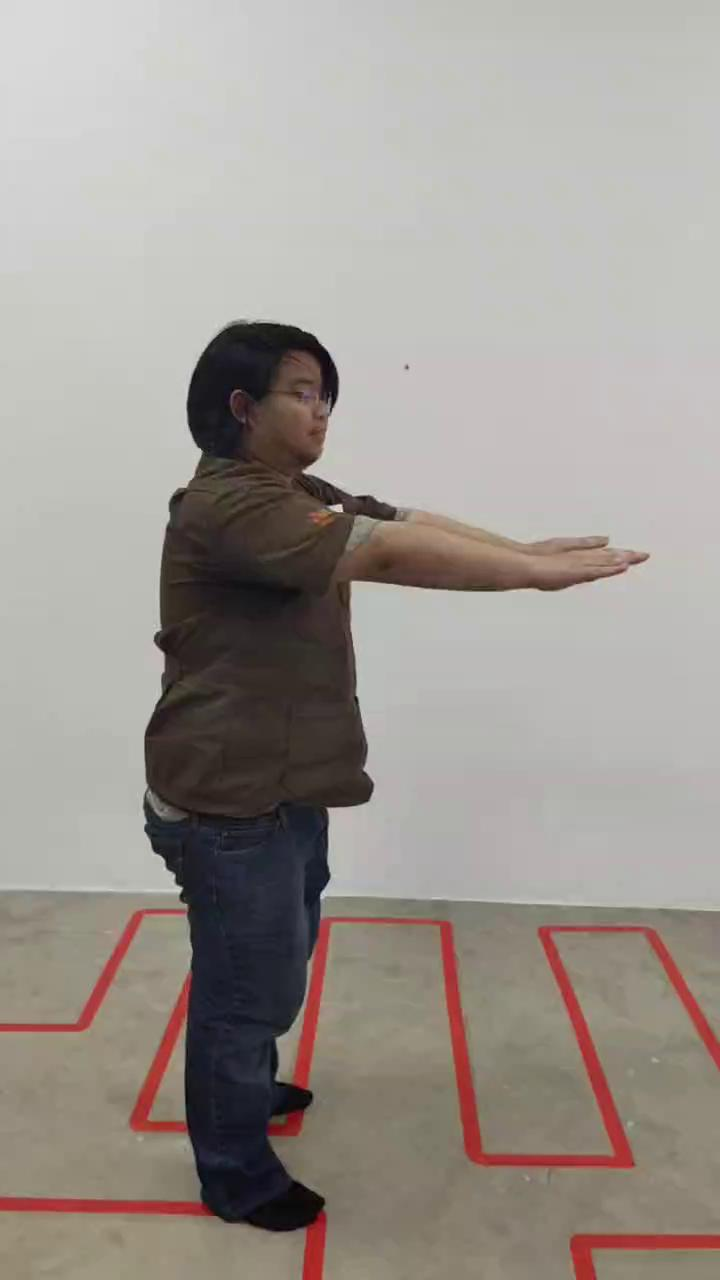squat up: (143, 320, 641, 1236)
